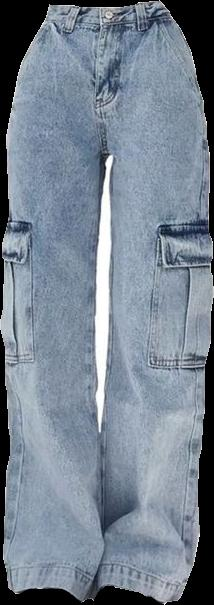Hemline: (88, 580, 176, 604), (14, 580, 88, 604)
Pantleg: (90, 1, 212, 602), (1, 5, 106, 599)
Waistline: (44, 15, 176, 30), (46, 0, 164, 13)
